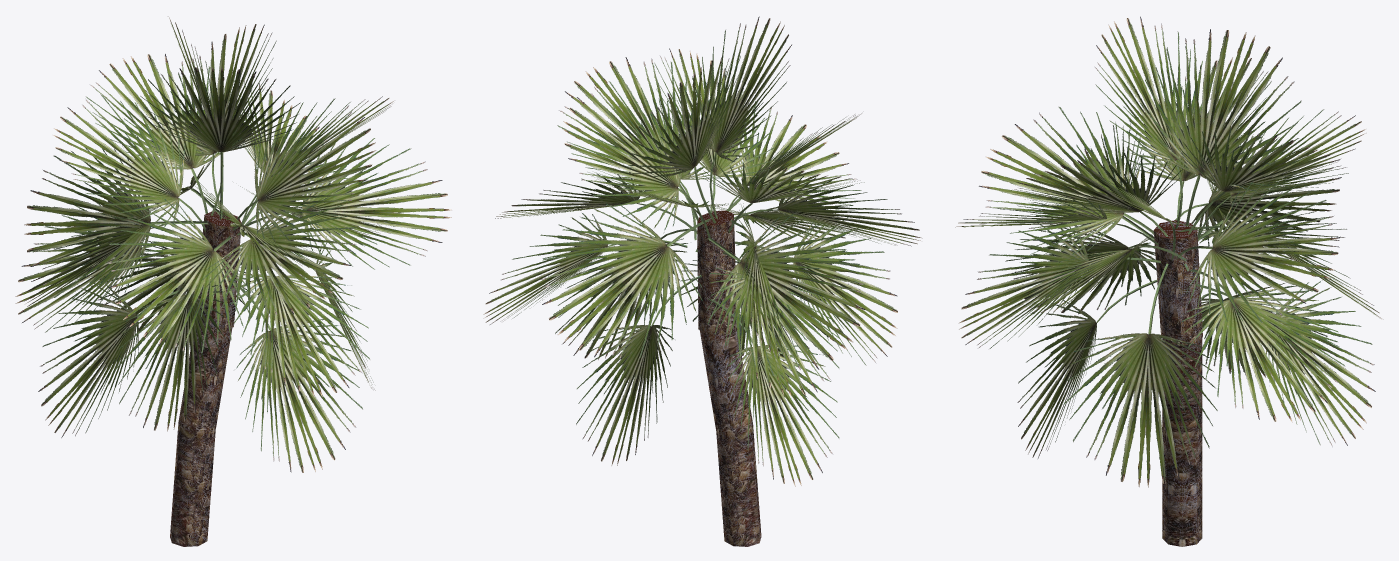
File: EuroFanPlalm4.dae
3 views of the same model, side by side, from view 1: azimuth 30°, elevation 25°; view 2: azimuth 150°, elevation 25°; view 3: azimuth 270°, elevation 25° (orthographic). The views are drawn at different scales.
Parts seen in each view (by area): view 1: eurofan_half (×37), euroStump, euroneck; view 2: eurofan_half (×36), euroStump, euroneck; view 3: eurofan_half (×38), euroStump, euroneck (×2).
Part boxes in pixels (x1,y1,x2,y2): eurofan_half (×37): (15,16,451,472); euroStump: (170,328,232,546); euroneck: (198,215,240,332); eurofan_half (×36): (483,16,922,486); euroStump: (699,328,761,546); euroneck: (697,214,736,335); eurofan_half (×38): (956,16,1383,487); euroStump: (1162,338,1202,546); euroneck (×2): (1153,220,1202,345).
Size of the model in its own units: 54.33 by 54.09 by 70.89.
Materials: 5 (3 with a texture image).
